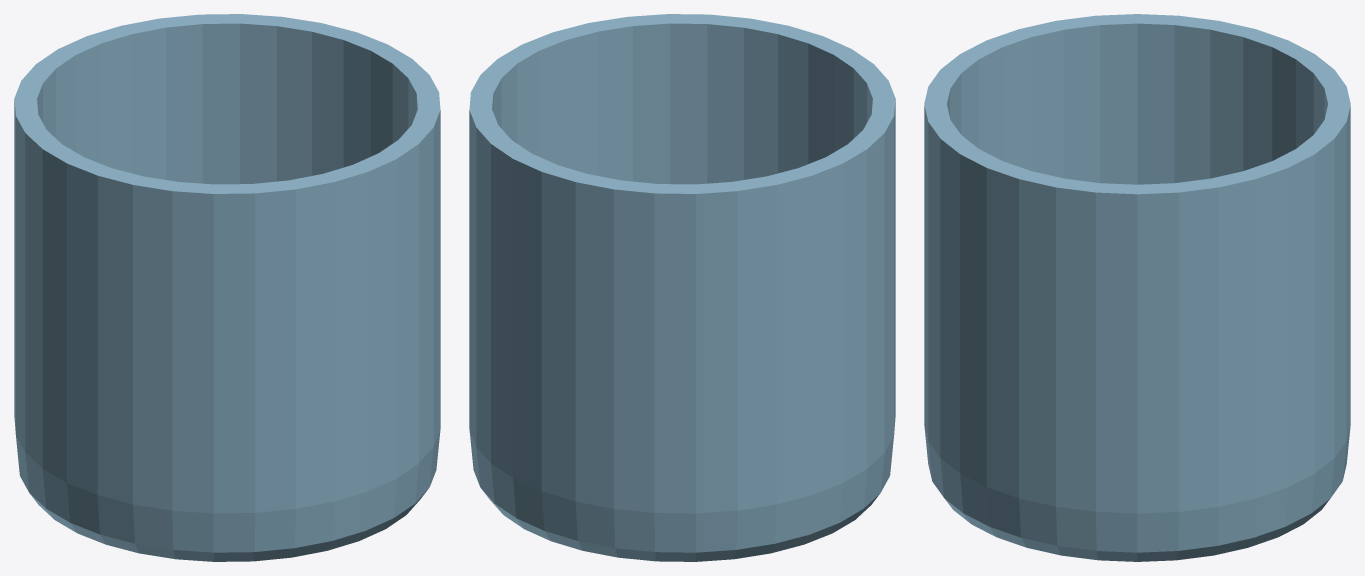
File: smallCup.fbx
The picture shows the model from 3 angles, left to right: view 1: azimuth 30°, elevation 25°; view 2: azimuth 150°, elevation 25°; view 3: azimuth 270°, elevation 25°; orthographic projection.
Parts seen in each view (by area): view 1: Small Cup; view 2: Small Cup; view 3: Small Cup.
Part boxes in pixels (x1=…): Small Cup: x1=14, y1=14, x2=440, y2=561; Small Cup: x1=469, y1=14, x2=895, y2=561; Small Cup: x1=924, y1=14, x2=1350, y2=561.
Size of the model in its own units: 10.27 by 10.27 by 9.93.
